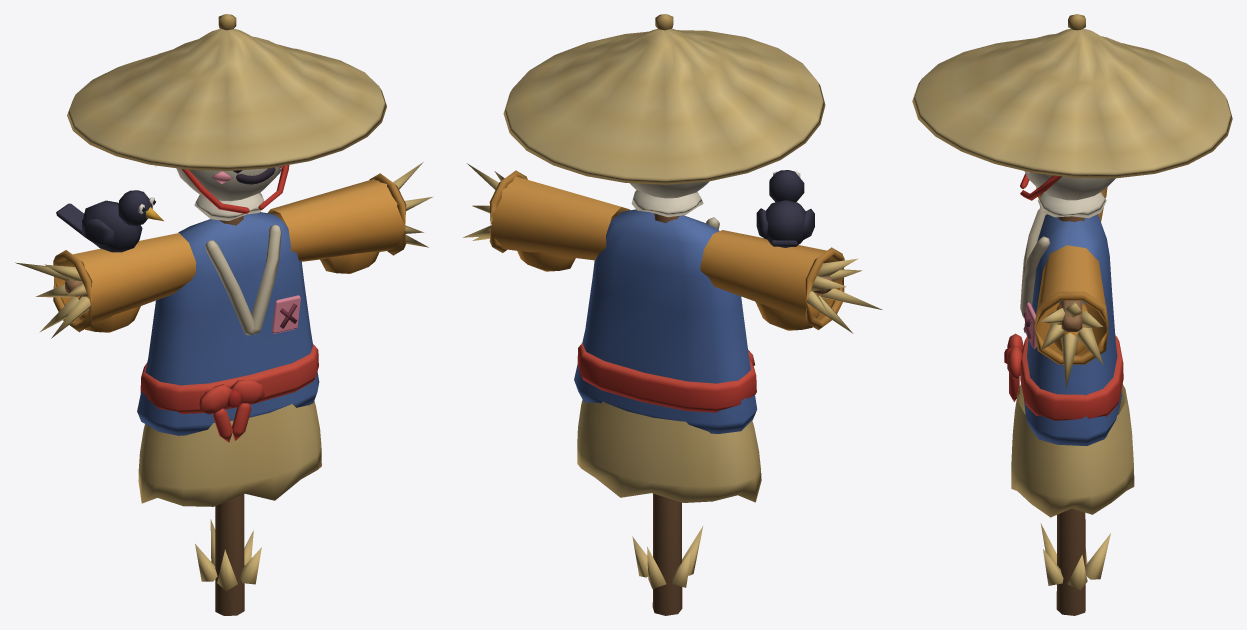
The model's file is rg-maple-kakashi.glb.
3 renders of one model, left to right at view 1: azimuth 30°, elevation 25°; view 2: azimuth 150°, elevation 25°; view 3: azimuth 270°, elevation 25°, orthographic.
Visible parts, largest first — view 1: kakashi; view 2: kakashi; view 3: kakashi.
Boxes of the visible parts, box(x1,y1,x2,y2) form: kakashi: box(15, 14, 433, 615); kakashi: box(463, 14, 882, 615); kakashi: box(912, 14, 1232, 615).
Size of the model in its own units: 1.51 by 2.17 by 1.06.
